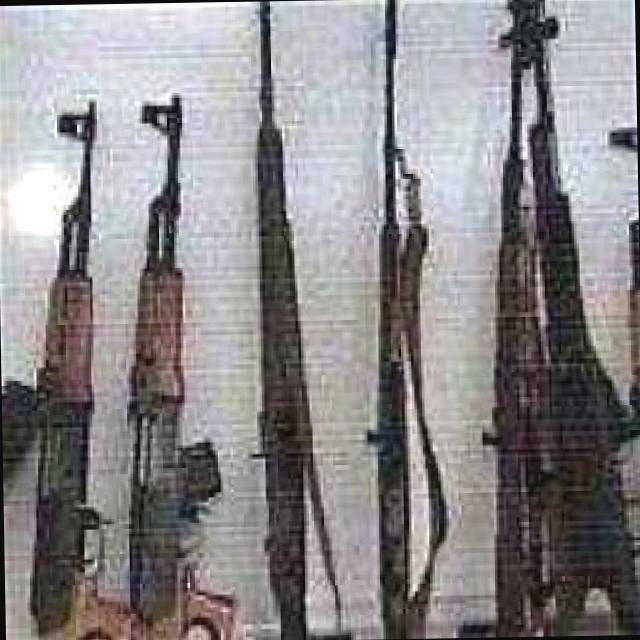long weapon: (474, 12, 636, 635), (108, 86, 239, 639), (3, 88, 134, 639), (238, 10, 350, 640), (362, 17, 464, 634)
